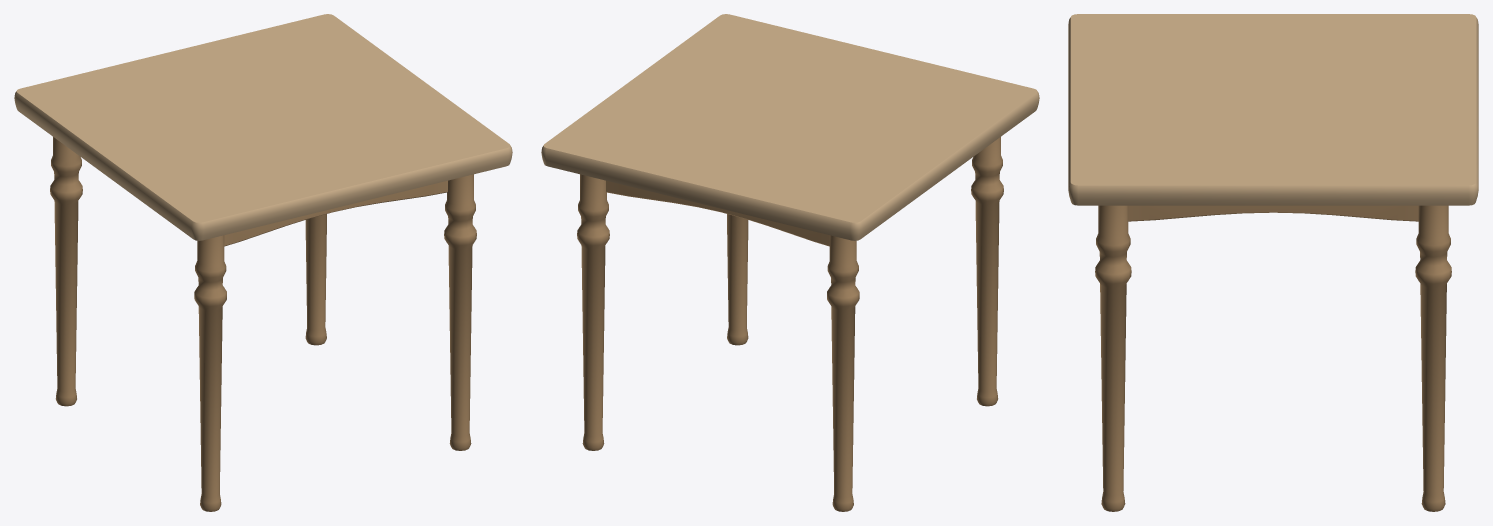
File: tableSquare2.glb
3 views of the same model, side by side, from view 1: azimuth 30°, elevation 25°; view 2: azimuth 150°, elevation 25°; view 3: azimuth 270°, elevation 25° (orthographic). The views are drawn at different scales.
Parts seen in each view (by area): view 1: tableSquare2; view 2: tableSquare2; view 3: tableSquare2.
Part boxes in pixels (box(x1,y1,x2,y2)): tableSquare2: box(14, 14, 512, 511); tableSquare2: box(541, 14, 1039, 511); tableSquare2: box(1068, 14, 1478, 511).
Size of the model in its own units: 0.82 by 0.75 by 0.82.
